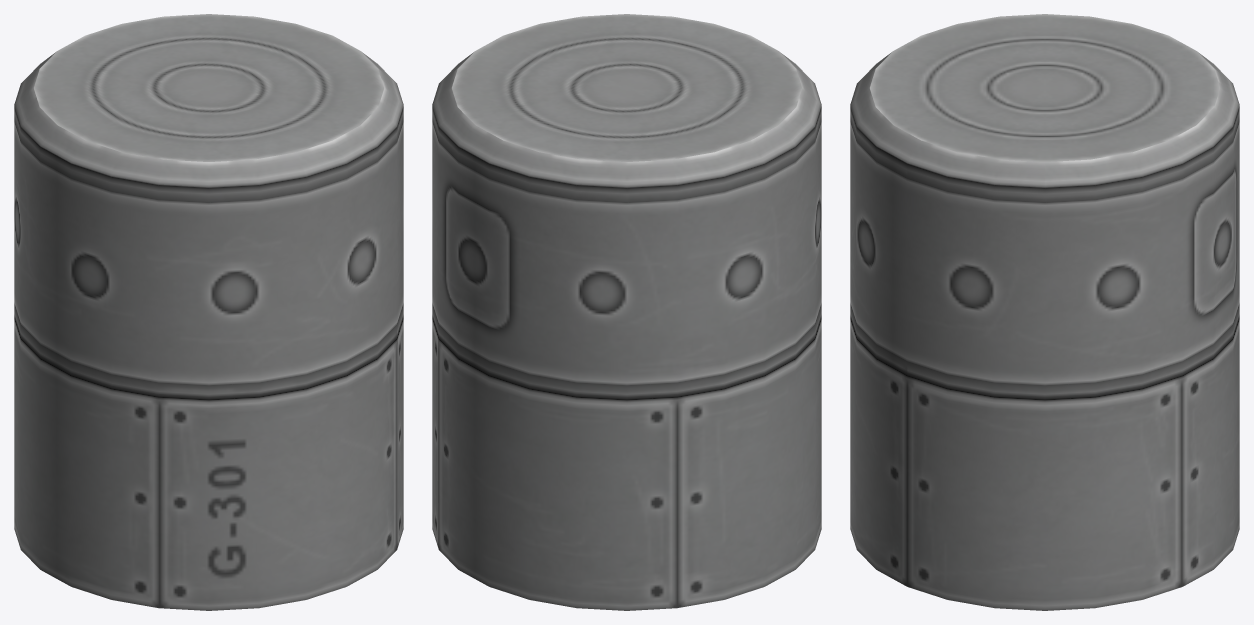
File: Knight_Engine_0_1.obj
3 renders of one model, left to right at view 1: azimuth 30°, elevation 25°; view 2: azimuth 150°, elevation 25°; view 3: azimuth 270°, elevation 25°, orthographic.
Parts seen in each view (by area): view 1: Knight_Engine_0_1; view 2: Knight_Engine_0_1; view 3: Knight_Engine_0_1.
Boxes of the visible parts, <box> form: Knight_Engine_0_1: <box>14,14,403,610</box>; Knight_Engine_0_1: <box>432,14,821,610</box>; Knight_Engine_0_1: <box>850,14,1239,610</box>.
Bounding box in the file's own units: 0.625 × 0.78 × 0.625.
